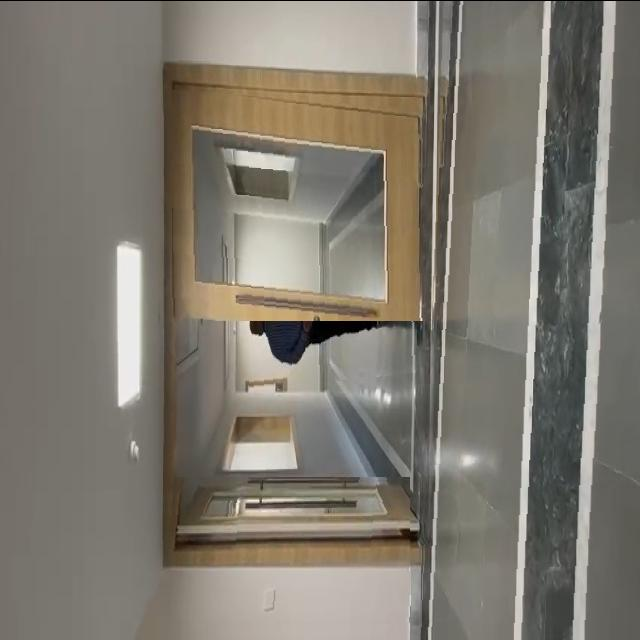door: (172, 88, 431, 320), (166, 476, 410, 565)
floor: (420, 0, 640, 640)
moving_object: (249, 286, 418, 388)
wall: (144, 570, 412, 634), (156, 0, 415, 62)
